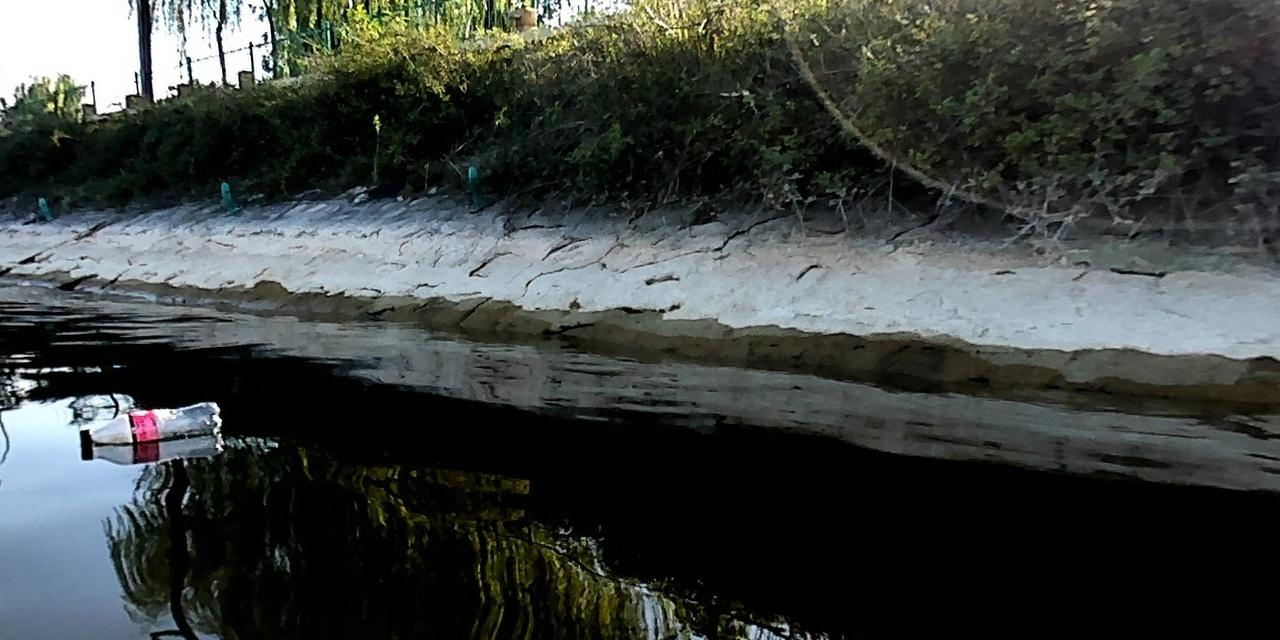bottle: (76, 398, 225, 450)
